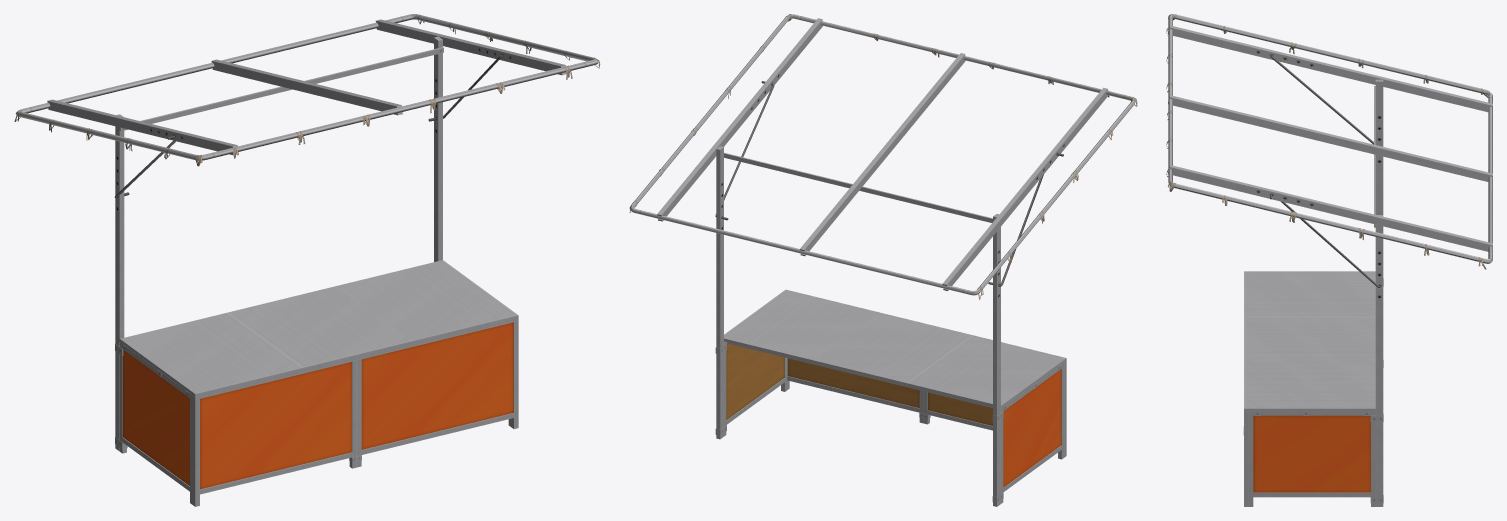
The model's file is jsf_2P_s02_c01_t01.fbx.
3 renders of one model, left to right at view 1: azimuth 30°, elevation 25°; view 2: azimuth 150°, elevation 25°; view 3: azimuth 270°, elevation 25°, orthographic. The views are drawn at different scales.
Parts seen in each view (by area): view 1: Base_s02_c01, Table_2P_s02_t01, Pillar2_s02, Rope_2P_s02; view 2: Pillar2_s02, Table_2P_s02_t01, Base_s02_c01; view 3: Pillar2_s02, Table_2P_s02_t01, Base_s02_c01, Rope_2P_s02.
Boxes of the visible parts, x1,y1,x2,y2 form: Base_s02_c01: [115, 315, 518, 506]; Table_2P_s02_t01: [119, 260, 517, 397]; Pillar2_s02: [15, 14, 597, 451]; Rope_2P_s02: [14, 15, 600, 166]; Pillar2_s02: [629, 14, 1135, 506]; Table_2P_s02_t01: [724, 290, 1065, 410]; Base_s02_c01: [715, 289, 1066, 503]; Pillar2_s02: [1168, 14, 1492, 506]; Table_2P_s02_t01: [1245, 271, 1375, 415]; Base_s02_c01: [1243, 271, 1383, 506]; Rope_2P_s02: [1166, 14, 1488, 269].
Bounding box in the file's own units: 264 × 244 × 211.
